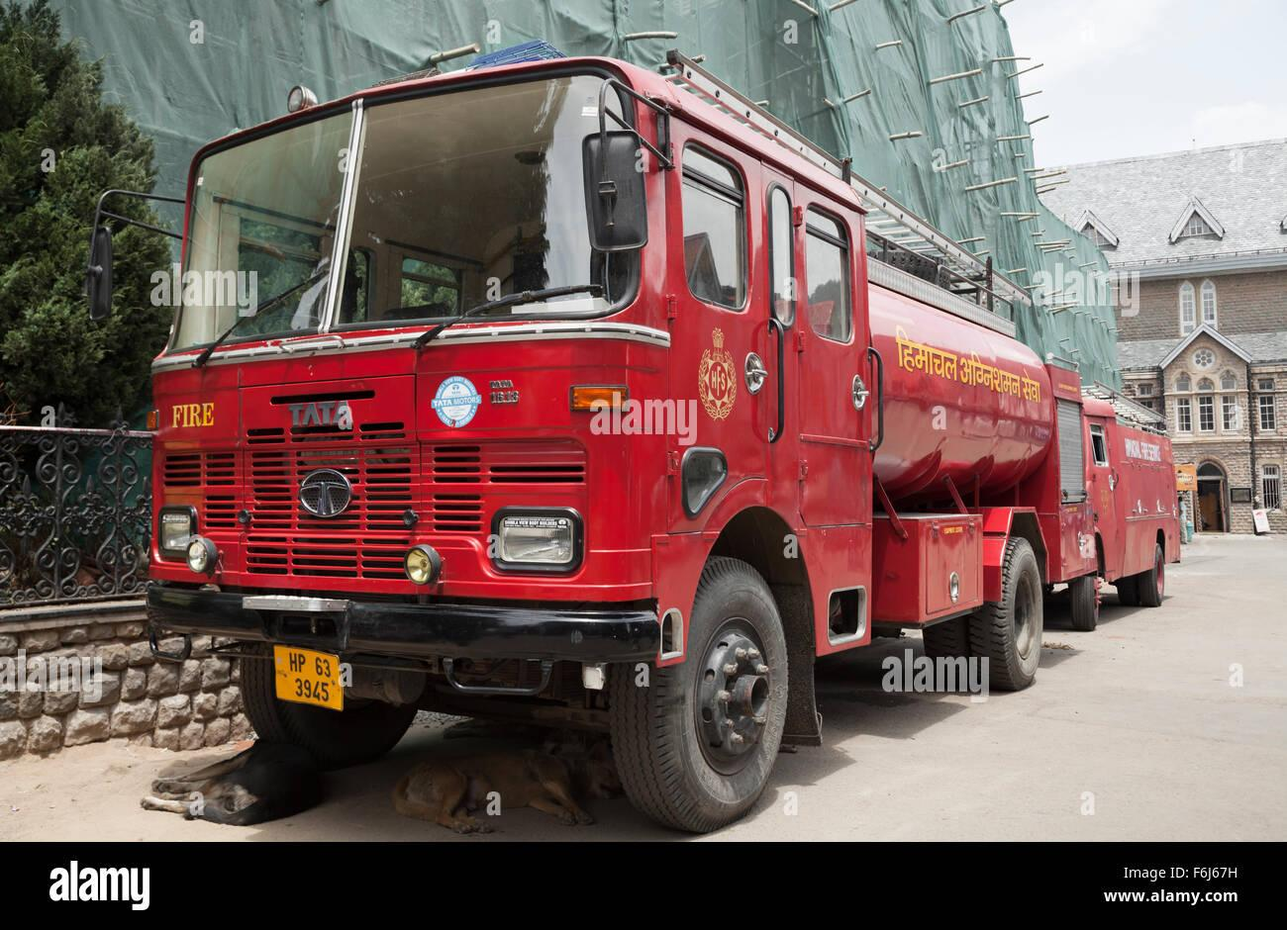Emergency-Vehicles: (169, 48, 1188, 752)
